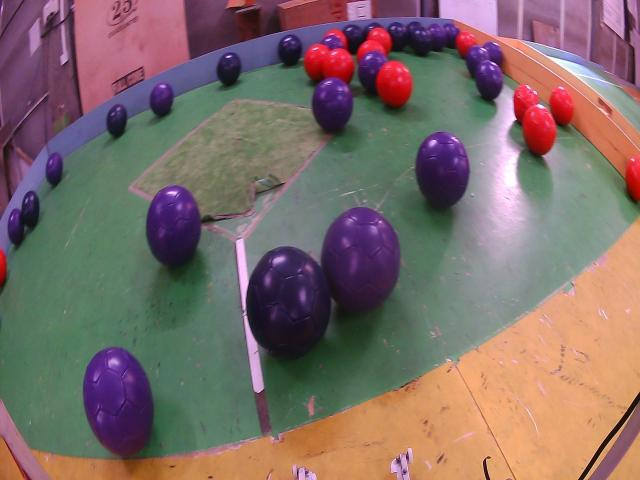jambhalya: (321, 207, 400, 312), (82, 347, 154, 457), (146, 185, 201, 267), (416, 132, 470, 207), (312, 77, 352, 132), (359, 50, 388, 93), (475, 60, 504, 100), (150, 82, 174, 117), (466, 45, 490, 77), (8, 208, 24, 245), (428, 23, 448, 52), (45, 152, 62, 186), (484, 42, 502, 67), (444, 23, 460, 48), (321, 35, 345, 50)
kaalyya: (246, 247, 331, 358), (216, 53, 241, 85), (409, 25, 432, 57), (21, 190, 40, 228), (106, 105, 128, 137), (279, 35, 302, 65), (388, 22, 408, 52), (344, 25, 365, 53), (365, 22, 380, 36), (406, 20, 421, 33)
